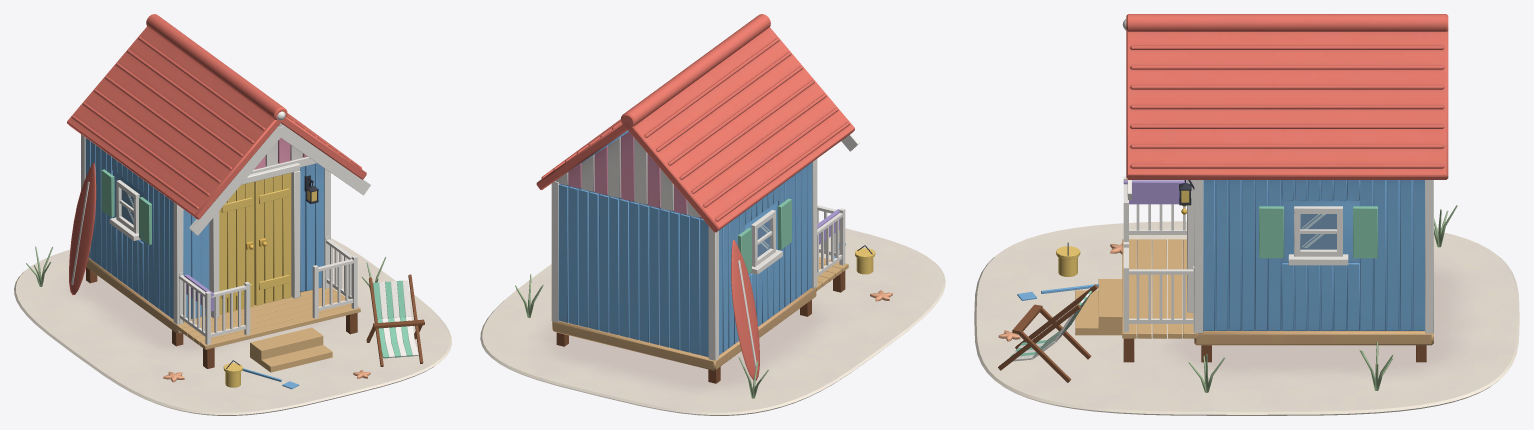
File: beach-hut.glb
3 views of the same model, side by side, from view 1: azimuth 30°, elevation 25°; view 2: azimuth 150°, elevation 25°; view 3: azimuth 270°, elevation 25° (orthographic). The views are drawn at different scales.
Parts seen in each view (by area): view 1: beach-hut_body, beach-hut_details, beach-hut_details_rails, beach-hut_door_r, beach-hut_door_l, beach-hut_frame, beach-hut_plants_grass; view 2: beach-hut_body, beach-hut_details, beach-hut_details_rails, beach-hut_plants_grass; view 3: beach-hut_body, beach-hut_details, beach-hut_details_rails, beach-hut_plants_grass, beach-hut_frame.
Boxes of the visible parts, left/top/right/bottom form: beach-hut_body: left=14, top=14, right=451, bottom=415; beach-hut_details: left=69, top=111, right=424, bottom=389; beach-hut_details_rails: left=179, top=236, right=357, bottom=344; beach-hut_door_r: left=254, top=173, right=291, bottom=305; beach-hut_door_l: left=219, top=182, right=254, bottom=314; beach-hut_frame: left=209, top=163, right=300, bottom=318; beach-hut_plants_grass: left=26, top=246, right=386, bottom=290; beach-hut_body: left=480, top=14, right=945, bottom=415; beach-hut_details: left=551, top=133, right=892, bottom=383; beach-hut_details_rails: left=817, top=205, right=845, bottom=276; beach-hut_plants_grass: left=515, top=274, right=768, bottom=398; beach-hut_body: left=974, top=14, right=1519, bottom=415; beach-hut_details: left=998, top=19, right=1433, bottom=382; beach-hut_details_rails: left=1123, top=176, right=1194, bottom=332; beach-hut_plants_grass: left=1188, top=205, right=1457, bottom=392; beach-hut_frame: left=1187, top=180, right=1194, bottom=312.
Size of the model in its own units: 5.1 by 3.77 by 6.1.
21 materials, 1 textured.
